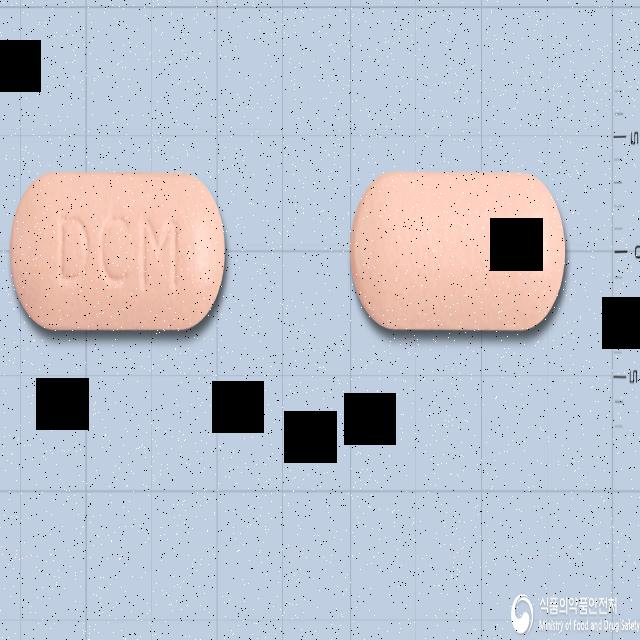Dongkoo Levofloxacin Hydrate Tab-500mg: (10, 170, 227, 331)
